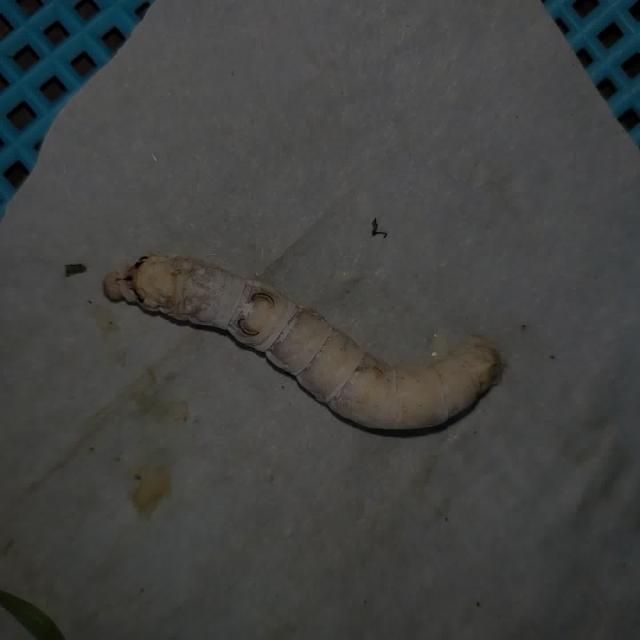Grasserie: (94, 228, 506, 452)
